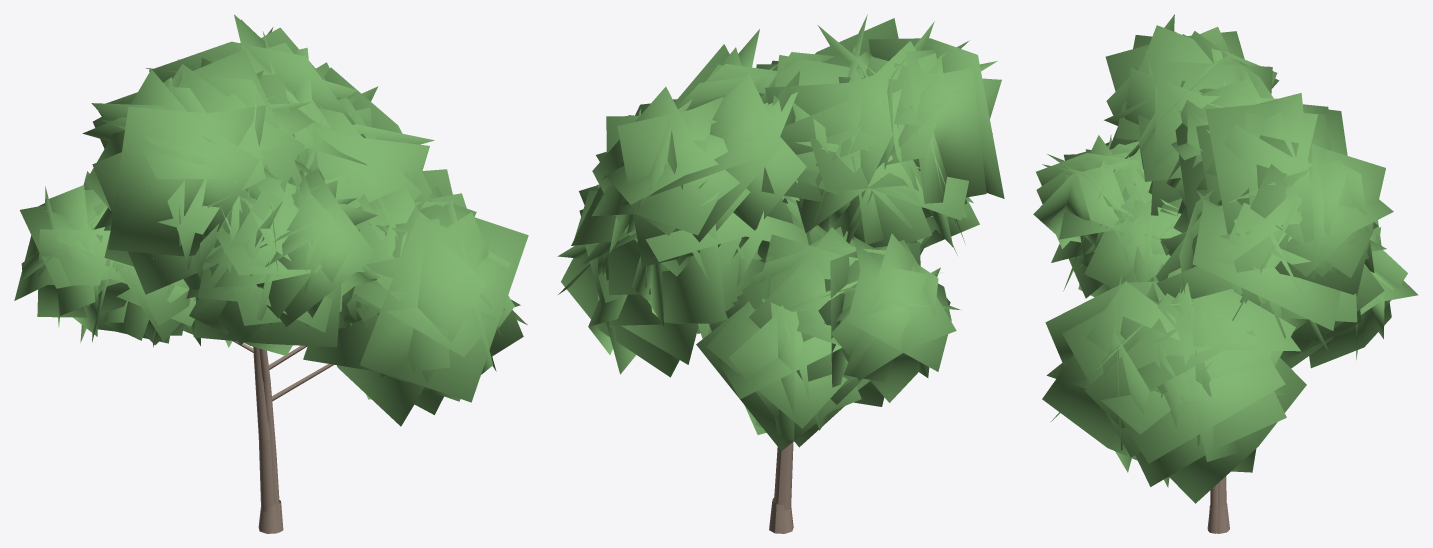
Rendered from v15-pohon-kecil.glb.
3 views of the same model, side by side, from view 1: azimuth 30°, elevation 25°; view 2: azimuth 150°, elevation 25°; view 3: azimuth 270°, elevation 25° (orthographic). The views are drawn at different scales.
Visible parts, largest first — view 1: v15-pohon-kecil_daun, v15-pohon-kecil_kulit; view 2: v15-pohon-kecil_daun, v15-pohon-kecil_kulit; view 3: v15-pohon-kecil_daun, v15-pohon-kecil_kulit.
Boxes of the visible parts, x1=… form: v15-pohon-kecil_daun: x1=14, y1=14, x2=528, y2=426; v15-pohon-kecil_kulit: x1=190, y1=298, x2=333, y2=533; v15-pohon-kecil_daun: x1=557, y1=14, x2=1004, y2=450; v15-pohon-kecil_kulit: x1=769, y1=442, x2=793, y2=533; v15-pohon-kecil_daun: x1=1033, y1=14, x2=1418, y2=503; v15-pohon-kecil_kulit: x1=1207, y1=476, x2=1229, y2=533.
Bounding box in the file's own units: 9.2 × 10.15 × 7.83.
